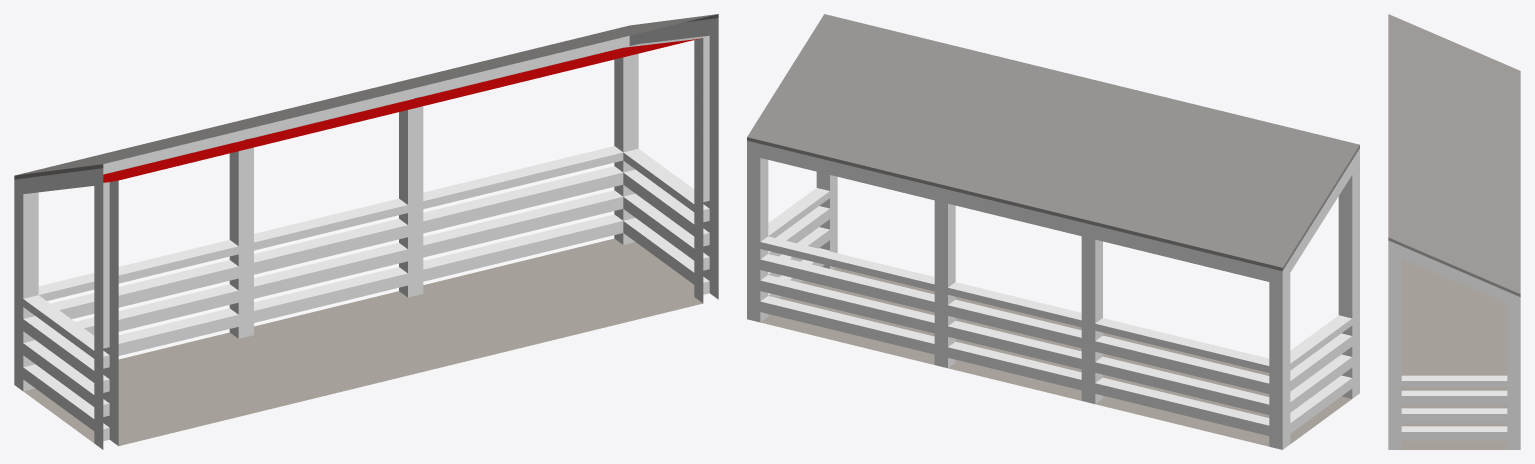
File: TerraceStorey.fbx
3 renders of one model, left to right at view 1: azimuth 30°, elevation 25°; view 2: azimuth 150°, elevation 25°; view 3: azimuth 270°, elevation 25°, orthographic. The views are drawn at different scales.
Parts seen in each view (by area): view 1: TerraceStorey_LOD0; view 2: TerraceStorey_LOD0; view 3: TerraceStorey_LOD0.
Boxes of the visible parts, x1,y1,x2,y2 form: TerraceStorey_LOD0: (14,14,718,449); TerraceStorey_LOD0: (747,14,1359,449); TerraceStorey_LOD0: (1388,14,1520,449).
Size of what is drawn, in the model's own units: 1600 by 710 by 400.
